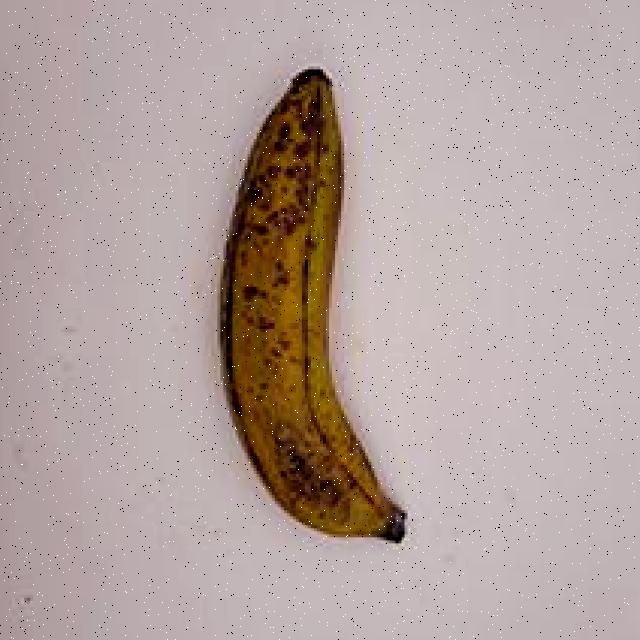Overripe: (174, 44, 448, 559)
